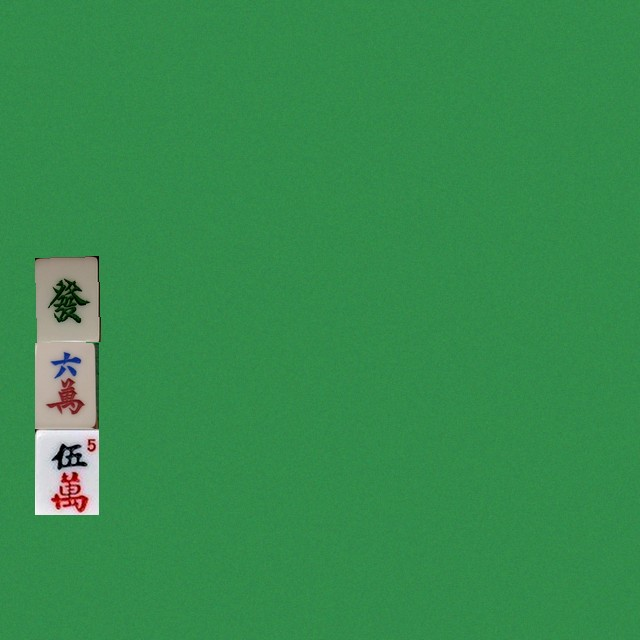tile: (34, 256, 98, 342), (34, 342, 98, 428), (34, 428, 98, 514)
